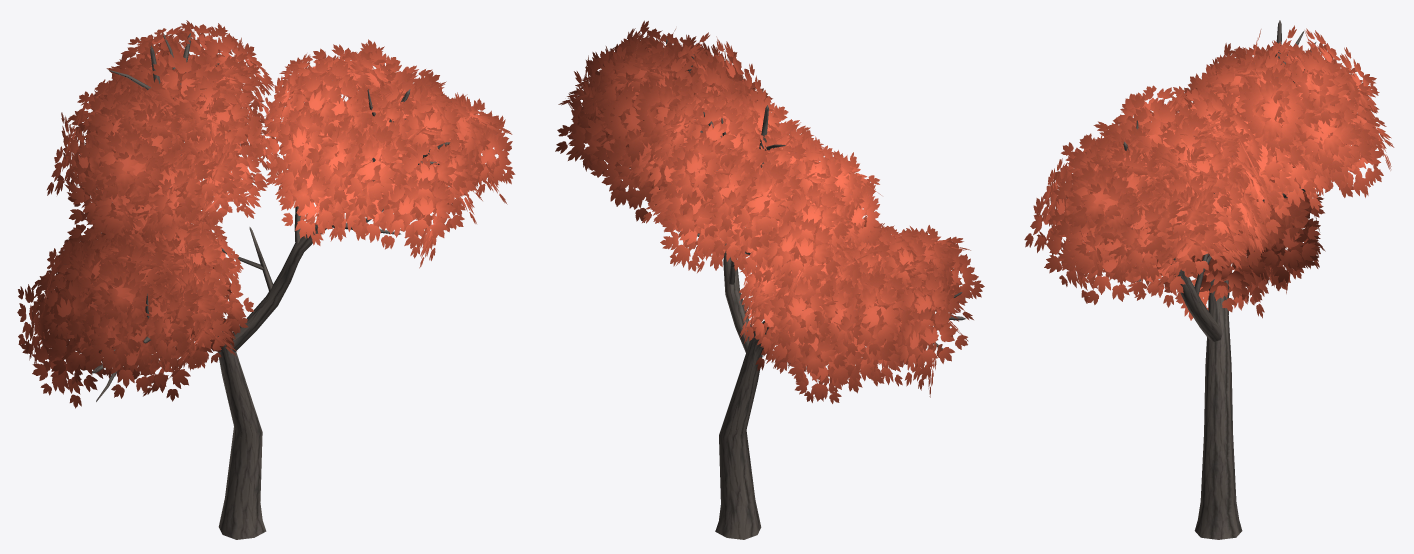
The model's file is maple_4.glb.
3 renders of one model, left to right at view 1: azimuth 30°, elevation 25°; view 2: azimuth 150°, elevation 25°; view 3: azimuth 270°, elevation 25°, orthographic. The views are drawn at different scales.
Visible parts, largest first — view 1: MapleTree_5; view 2: MapleTree_5; view 3: MapleTree_5.
Boxes of the visible parts, bbox=[...] form: MapleTree_5: bbox=[17, 20, 515, 539]; MapleTree_5: bbox=[555, 20, 984, 539]; MapleTree_5: bbox=[1024, 20, 1394, 539].
Size of the model in its own units: 7.01 by 7.28 by 5.08.
2 materials, 2 textured.
